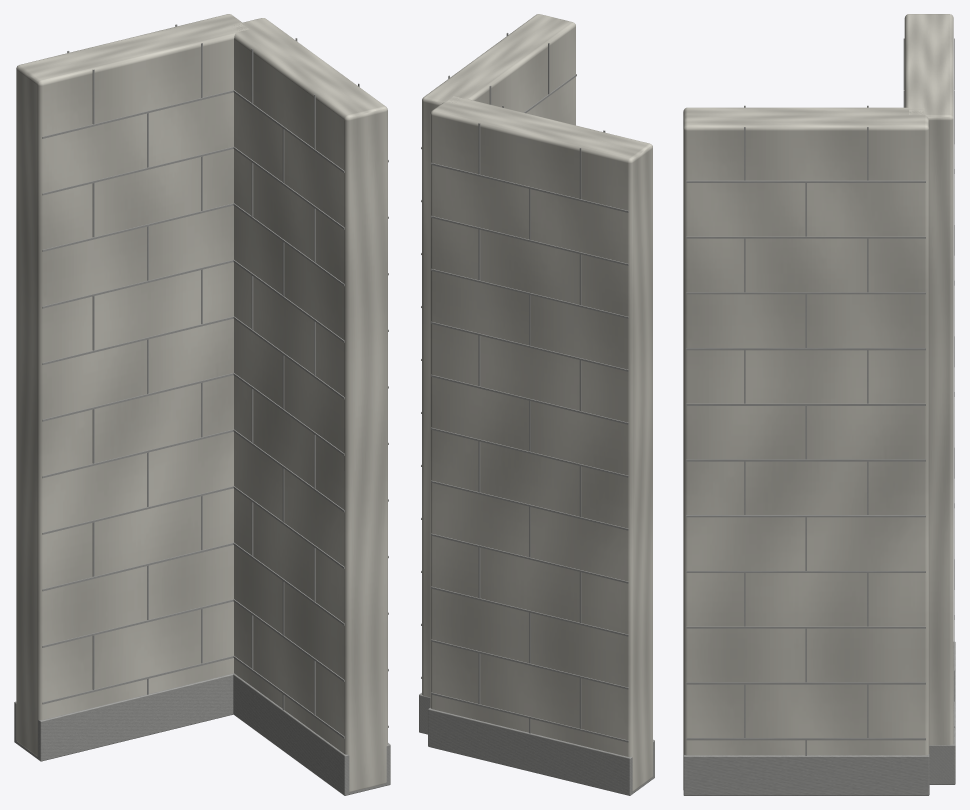
File: prison-complex-builder-concrete-wall-corner-73f89cc9__25585.glb
3 renders of one model, left to right at view 1: azimuth 30°, elevation 25°; view 2: azimuth 150°, elevation 25°; view 3: azimuth 270°, elevation 25°, orthographic. The views are drawn at different scales.
Parts seen in each view (by area): view 1: concrete-wall-corner; view 2: concrete-wall-corner; view 3: concrete-wall-corner.
Part boxes in pixels (x1,y1,x2,y2): concrete-wall-corner: (14,14,390,795); concrete-wall-corner: (419,14,654,795); concrete-wall-corner: (683,14,955,795).
Bounding box in the file's own units: 1.11 × 3 × 1.11.
Materials: 2 (2 with a texture image).
